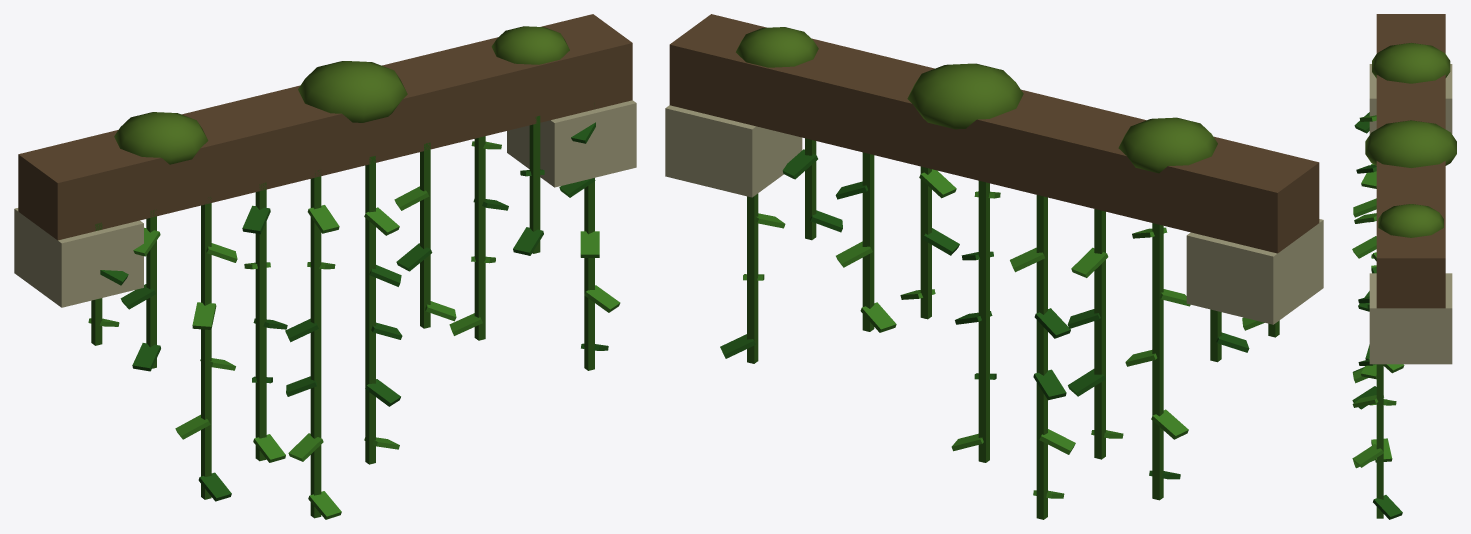
File: jt_overgrown_beam.glb
3 renders of one model, left to right at view 1: azimuth 30°, elevation 25°; view 2: azimuth 150°, elevation 25°; view 3: azimuth 270°, elevation 25°, orthographic. The views are drawn at different scales.
Visible parts, largest first — view 1: jt_overgrown_beam; view 2: jt_overgrown_beam; view 3: jt_overgrown_beam.
Part boxes in pixels (x1=…): jt_overgrown_beam: x1=14, y1=14, x2=636, y2=519; jt_overgrown_beam: x1=665, y1=14, x2=1323, y2=519; jt_overgrown_beam: x1=1352, y1=14, x2=1456, y2=519.
Size of the model in its own units: 4.19 by 2.93 by 0.761.
